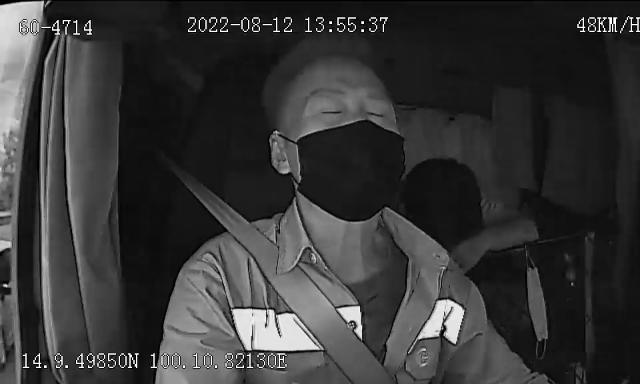Seatbelt: (170, 161, 402, 384)
